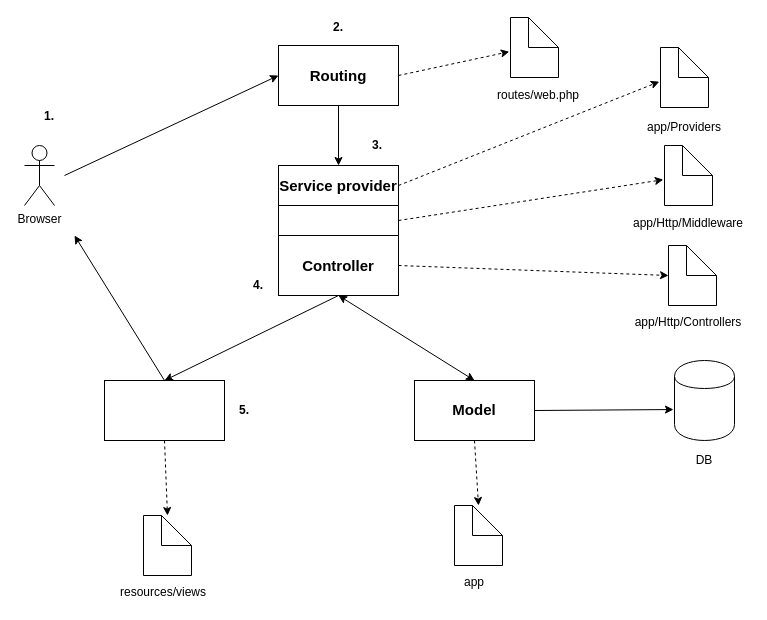
Image size: 767x620. Some labels were removed from this diagram. The shapes that lost their labels are listed below. From the top down, each one's centre as x and y in pixels, then its label:
At point 338,220: "Middleware".
At point 164,410: "View".
